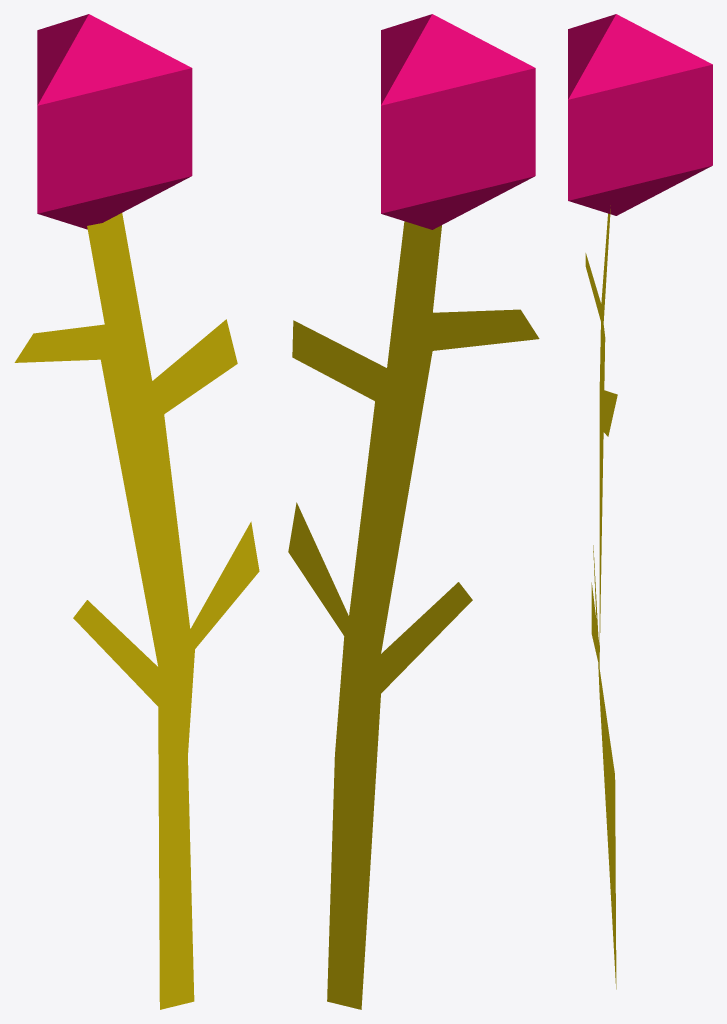
File: rose.glb
3 views of the same model, side by side, from view 1: azimuth 30°, elevation 25°; view 2: azimuth 150°, elevation 25°; view 3: azimuth 270°, elevation 25° (orthographic). The views are drawn at different scales.
Visible parts, largest first — view 1: Flower; view 2: Flower; view 3: Flower.
Boxes of the visible parts, bbox=[...] form: Flower: bbox=[14, 14, 259, 1009]; Flower: bbox=[288, 14, 539, 1009]; Flower: bbox=[568, 14, 712, 989].
Bounding box in the file's own units: 0.1379 × 0.538 × 0.0745.
